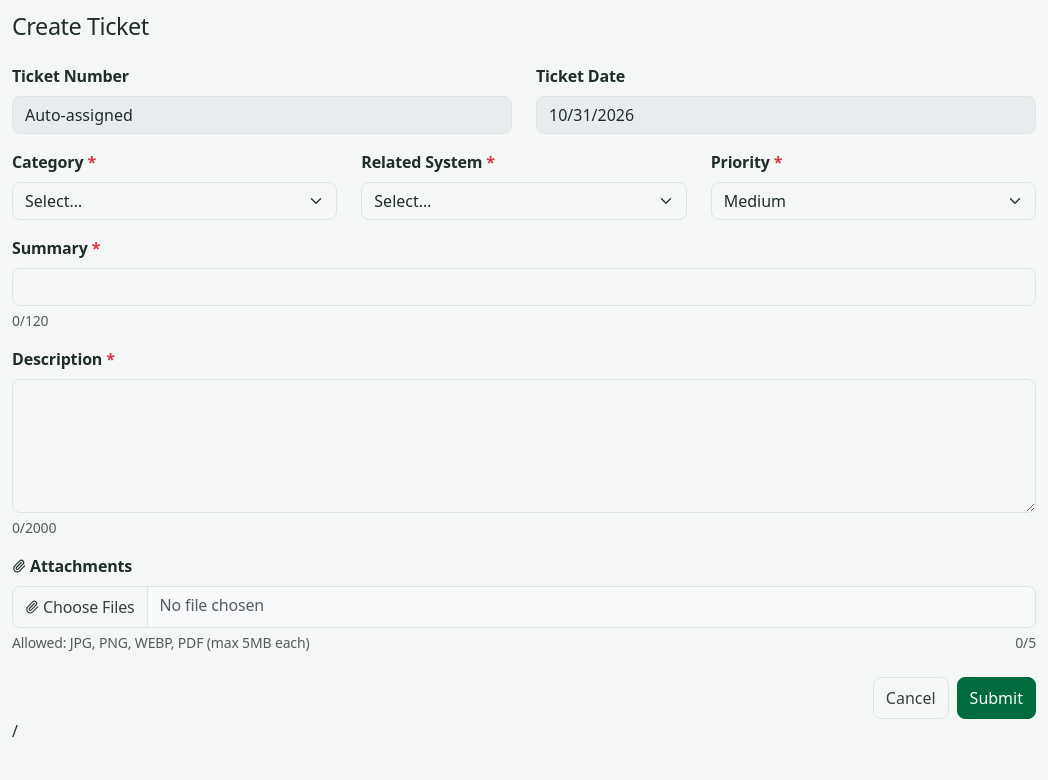
CreateTicket › returns to My Tickets when Cancel is clicked
Expected: the dropdown labelled "Category *" is shown, x1=12 y1=182 x2=337 y2=220
Click the button "Cancel": click(911, 698) x1=873 y1=677 x2=949 y2=719
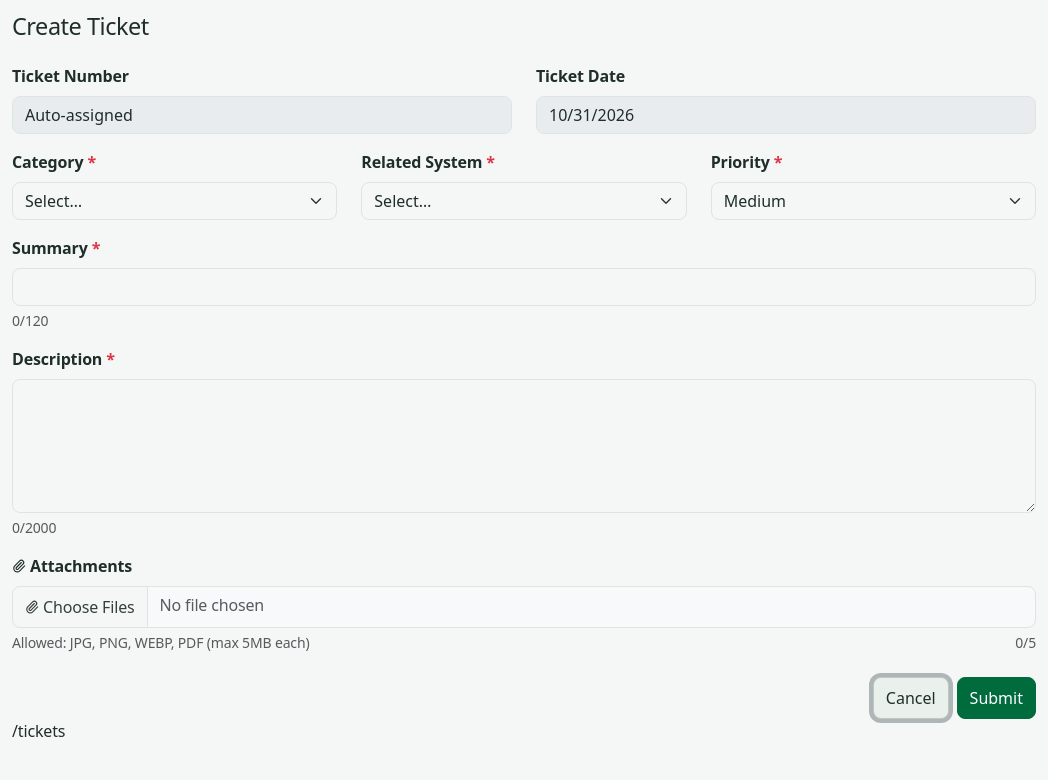
Result: the text with test id "location" reads "/tickets" at x1=12 y1=720 x2=65 y2=742
